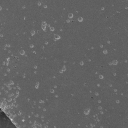corrosion: (3, 80, 14, 92), (39, 21, 50, 32), (107, 59, 119, 67), (66, 11, 75, 20), (82, 106, 91, 115), (34, 80, 41, 91), (76, 15, 85, 23), (58, 64, 66, 73), (18, 48, 26, 57), (53, 33, 61, 41), (29, 28, 36, 36), (97, 73, 104, 80), (28, 43, 35, 50), (32, 63, 39, 70), (4, 56, 11, 63), (5, 98, 13, 104), (49, 26, 55, 33), (102, 48, 108, 55), (79, 61, 85, 68), (93, 91, 100, 97), (43, 39, 49, 46), (99, 6, 105, 12), (49, 88, 55, 94), (43, 4, 49, 10), (36, 1, 42, 7), (20, 118, 27, 123), (115, 98, 120, 104)
